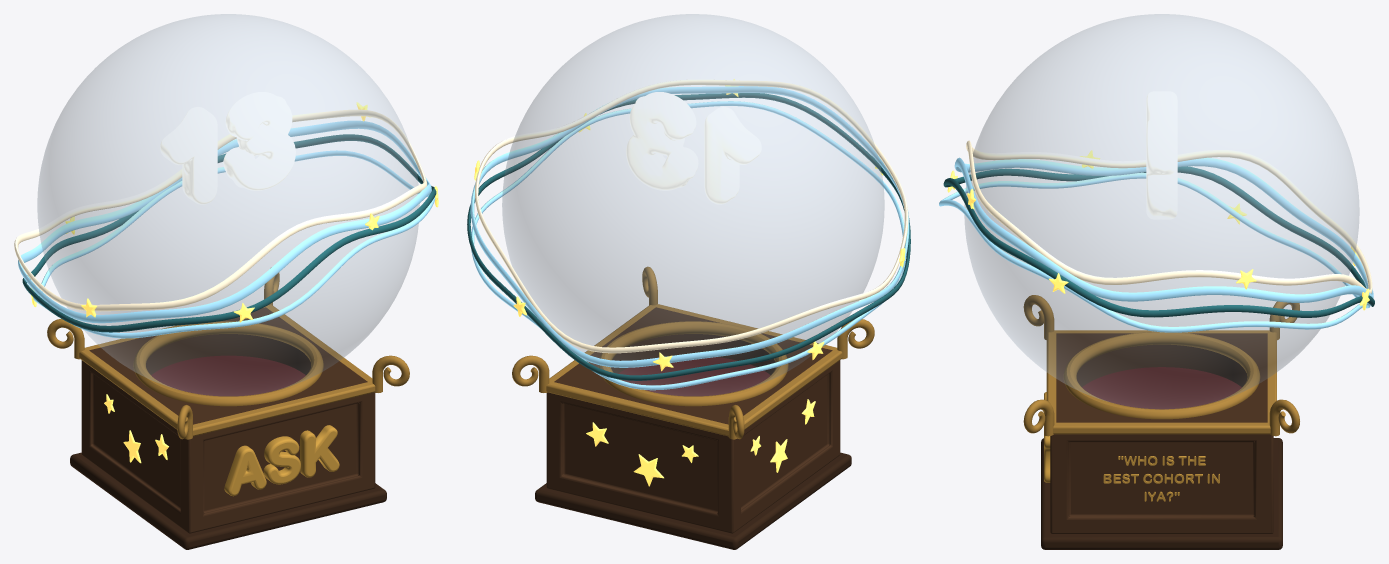
File: crystal-ball.glb
3 renders of one model, left to right at view 1: azimuth 30°, elevation 25°; view 2: azimuth 150°, elevation 25°; view 3: azimuth 270°, elevation 25°, orthographic. The views are drawn at different scales.
Visible parts, largest first — view 1: ball, box, mist.001, thirteen, lip, mist, plinth, mist.002, felt, ask, curl, inlay; view 2: ball, box, mist.001, thirteen, lip, mist, plinth, mist.002, felt, curl, inlay; view 3: ball, box, mist.001, lip, mist, mist.002, plinth, felt, thirteen, curl, ask, inlay.
Boxes of the visible parts, x1,y1,x2,y2 form: ball: (37,14,419,395); box: (81,307,375,533); mist.001: (18,120,435,338); thirteen: (160,92,295,204); lip: (79,305,375,436); mist: (14,109,426,311); plinth: (70,452,386,549); mist.002: (22,134,436,332); felt: (151,355,305,396); ask: (224,425,339,496); curl: (47,273,409,439); inlay: (31,102,438,463); ball: (502,14,884,395); box: (546,307,840,533); mist.001: (470,86,909,390); thirteen: (626,92,761,204); lip: (546,304,842,436); mist: (475,79,908,353); plinth: (535,452,851,549); mist.002: (467,93,910,380); felt: (618,357,770,396); curl: (512,266,874,439); inlay: (474,79,905,486); ball: (964,14,1359,408); box: (1050,333,1273,533); mist.001: (939,157,1373,332); lip: (1046,330,1276,434); mist: (966,140,1372,293); mist.002: (943,166,1374,317); plinth: (1041,438,1282,549); felt: (1082,367,1241,409); thirteen: (1146,91,1177,219); curl: (1023,295,1299,436); ask: (1044,392,1219,501); inlay: (947,150,1369,310).
Size of the model in its own units: 0.1919 by 0.2219 by 0.1874.
